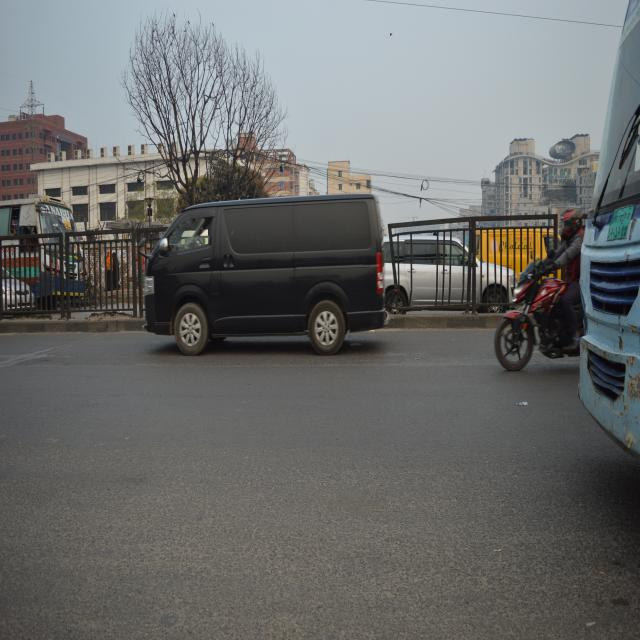bus: (576, 0, 640, 474), (0, 183, 90, 322)
car: (386, 225, 511, 322)
microbus: (137, 181, 390, 368)
motorbike: (497, 249, 583, 387)
